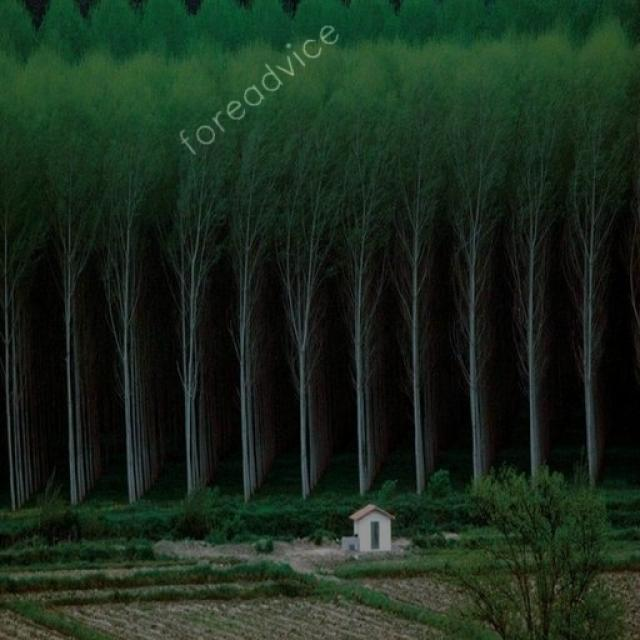watermark: (181, 4, 342, 164)
